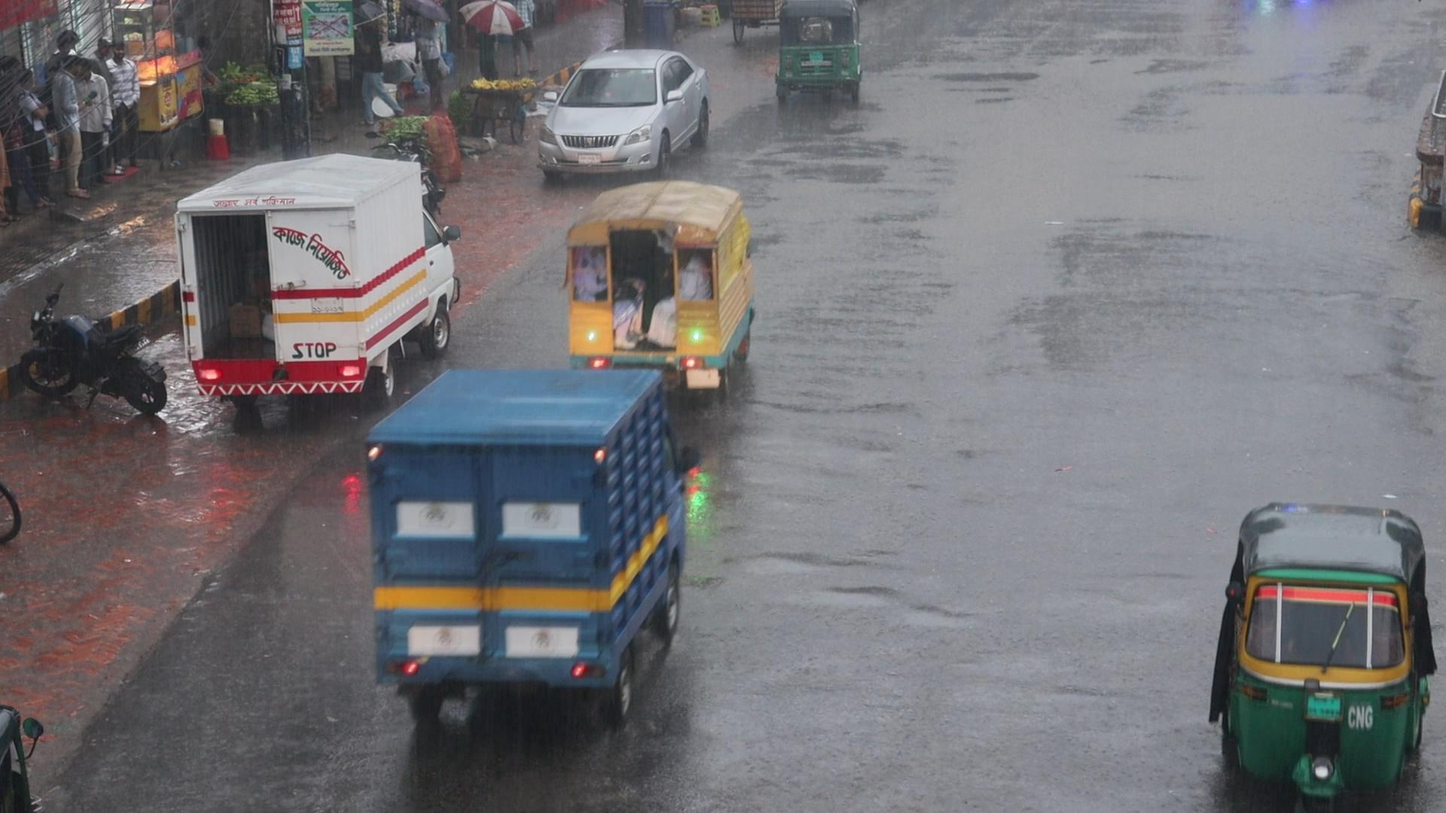Truck: (358, 364, 699, 726), (561, 177, 761, 376)
